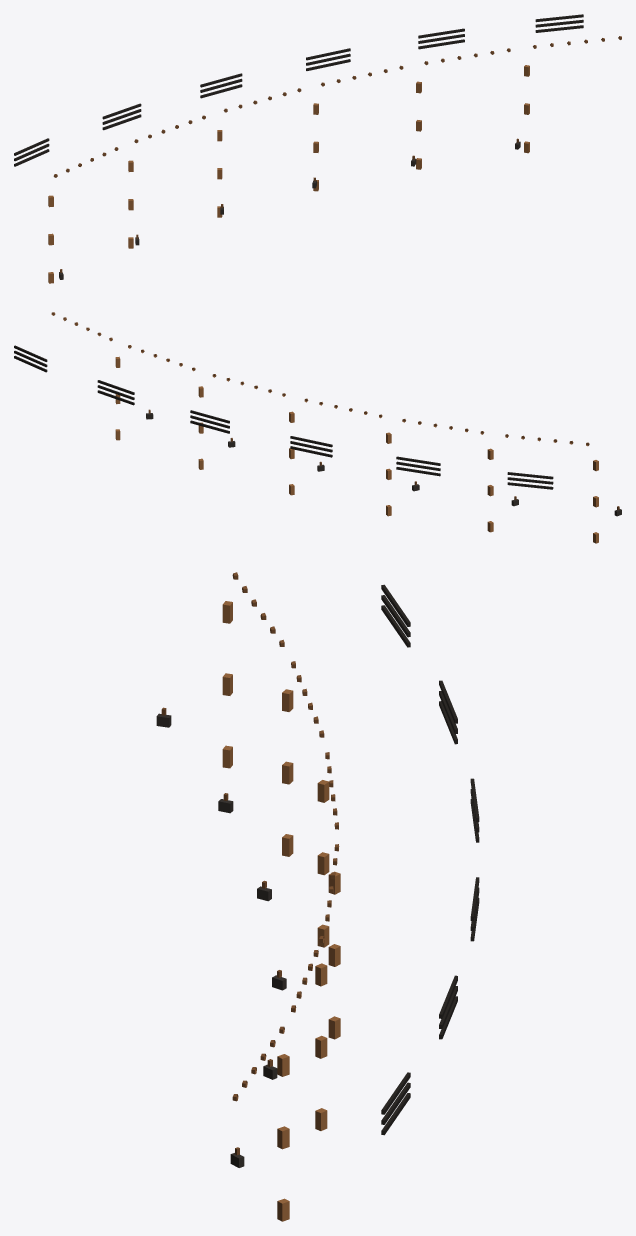
File: camp_lockers_detail1.glb
3 renders of one model, top to bottom at view 1: azimuth 30°, elevation 25°; view 2: azimuth 150°, elevation 25°; view 3: azimuth 270°, elevation 25°, orthographic. The views are drawn at different scales.
Visible parts, largest first — view 1: Body; view 2: Body; view 3: Body.
Part boxes in pixels (x1=…): Body: x1=14, y1=14, x2=621, y2=283; Body: x1=14, y1=312, x2=621, y2=543; Body: x1=156, y1=572, x2=479, y2=1221.
Size of the model in its own units: 19.14 by 3.31 by 4.85.
